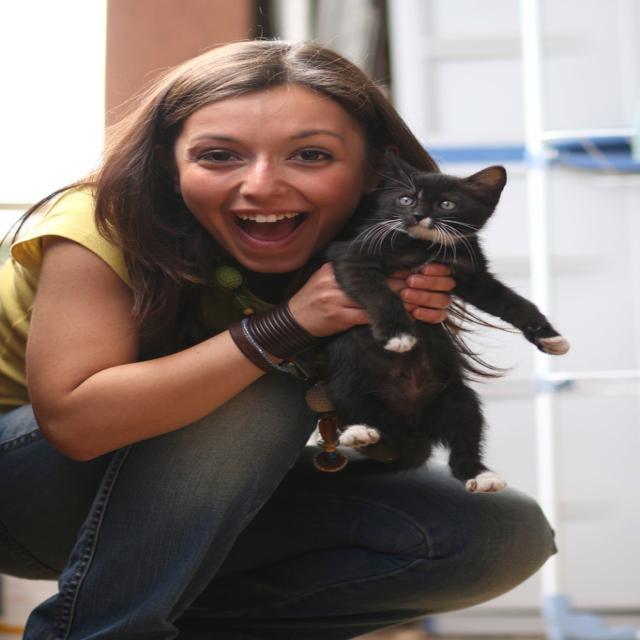Cat: (307, 151, 568, 490)
